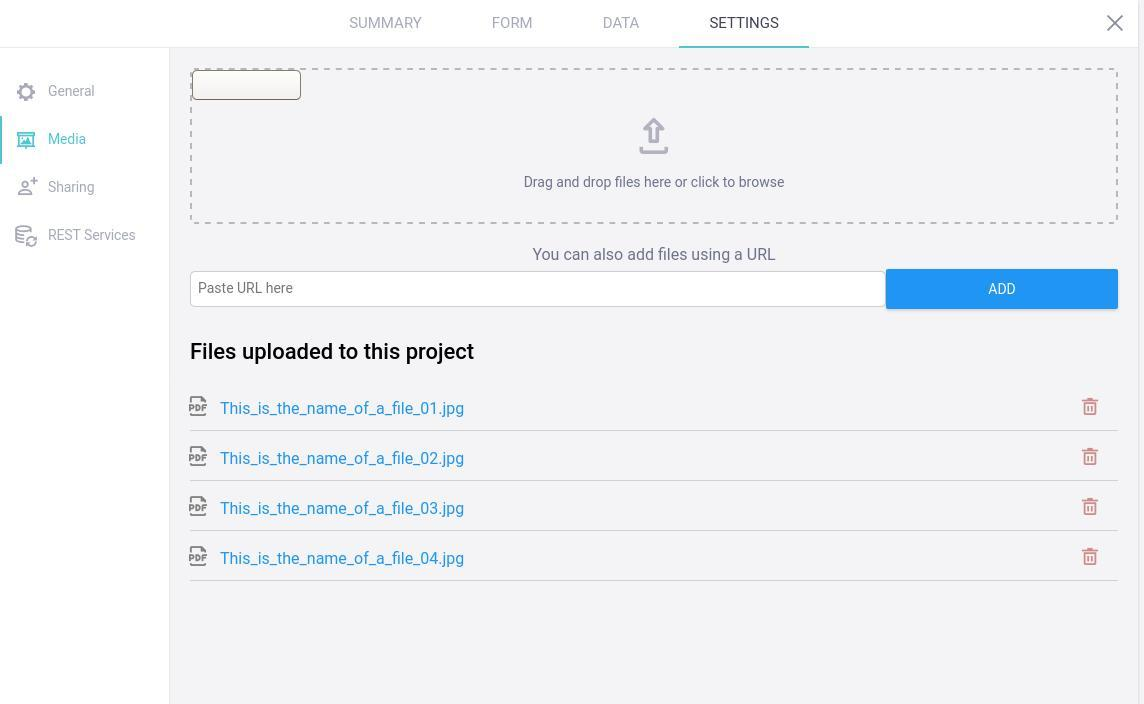button: (885, 267, 1122, 312)
icon: (9, 222, 39, 252), (15, 173, 43, 203), (189, 542, 212, 573), (188, 443, 211, 473), (187, 394, 211, 422), (1079, 443, 1102, 472), (1081, 393, 1103, 423), (1104, 12, 1128, 39), (189, 493, 211, 522), (1081, 493, 1102, 523), (16, 128, 37, 154), (15, 79, 38, 102), (1081, 545, 1099, 570)
input: (190, 272, 884, 309)
label: (43, 227, 139, 246), (45, 83, 101, 101), (43, 178, 99, 196), (44, 131, 88, 148)
